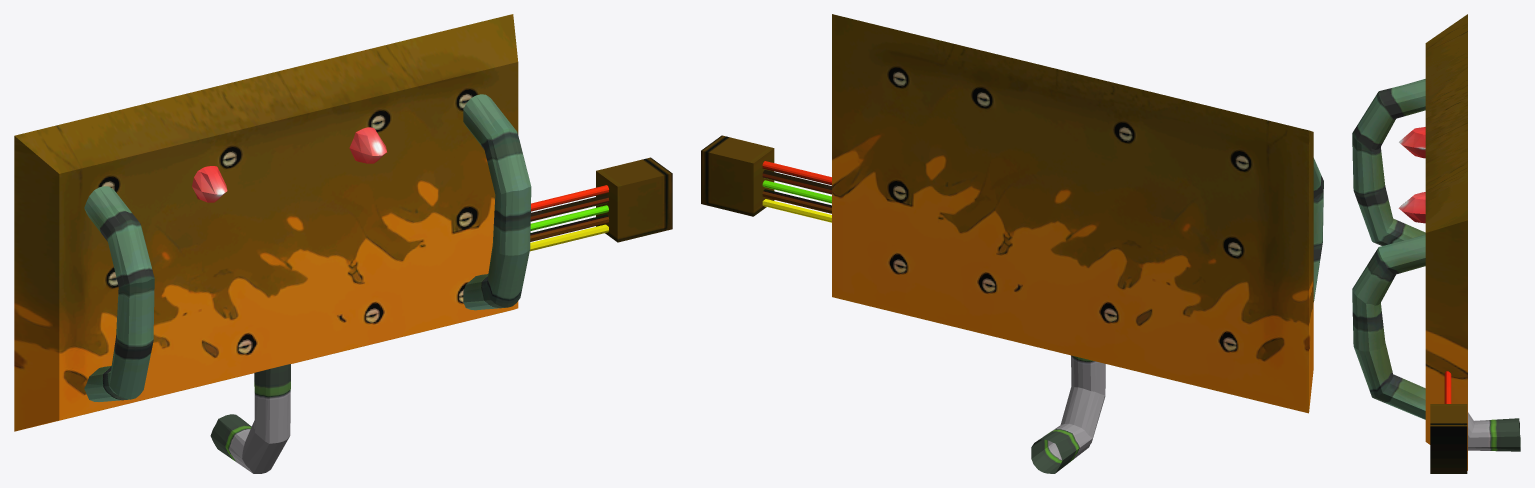
Rendered from Device.glb.
The picture shows the model from 3 angles, left to right: view 1: azimuth 30°, elevation 25°; view 2: azimuth 150°, elevation 25°; view 3: azimuth 270°, elevation 25°; orthographic projection. The views are drawn at different scales.
Visible parts, largest first — view 1: Device; view 2: Device; view 3: Device.
Boxes of the visible parts, x1,y1,x2,y2 form: Device: (14, 14, 672, 473); Device: (701, 14, 1323, 473); Device: (1352, 14, 1520, 473).
Size of the model in its own units: 336 by 200 by 91.1.
Materials: 1 (1 with a texture image).
